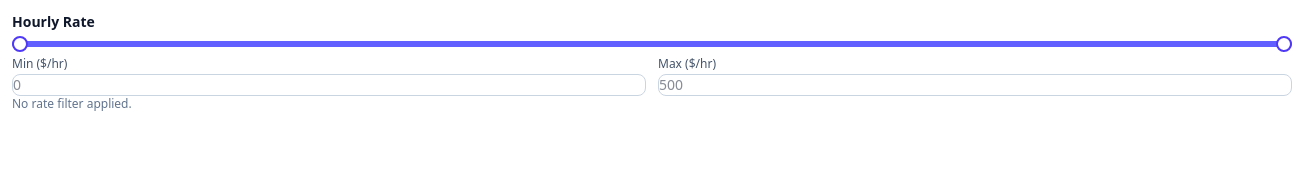
HourlyRateFilter Component › numeric inputs › shows the swapped values back in the fields
Type "100" into the number field named "Maximum hourly rate" at x=975, y=85, box x1=658 y1=74 x2=1292 y2=96
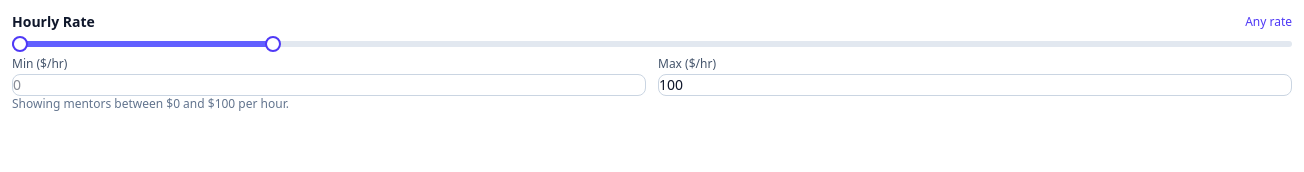
Type "400" into the number field named "Minimum hourly rate" at x=329, y=85, box x1=12 y1=74 x2=646 y2=96
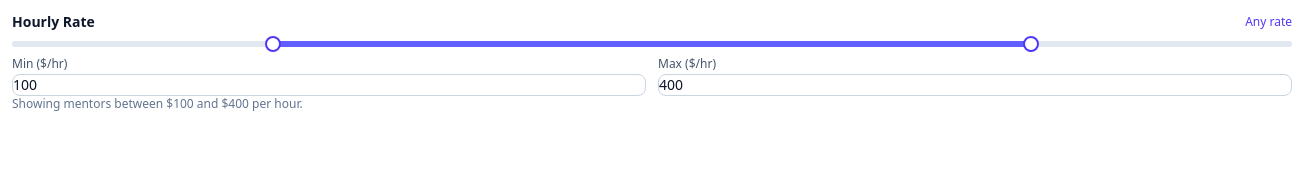
Expected: the number field named "hourly rate" holds "100", x1=12 y1=74 x2=646 y2=96
Expected: the number field named "hourly rate" holds "400", x1=658 y1=74 x2=1292 y2=96
